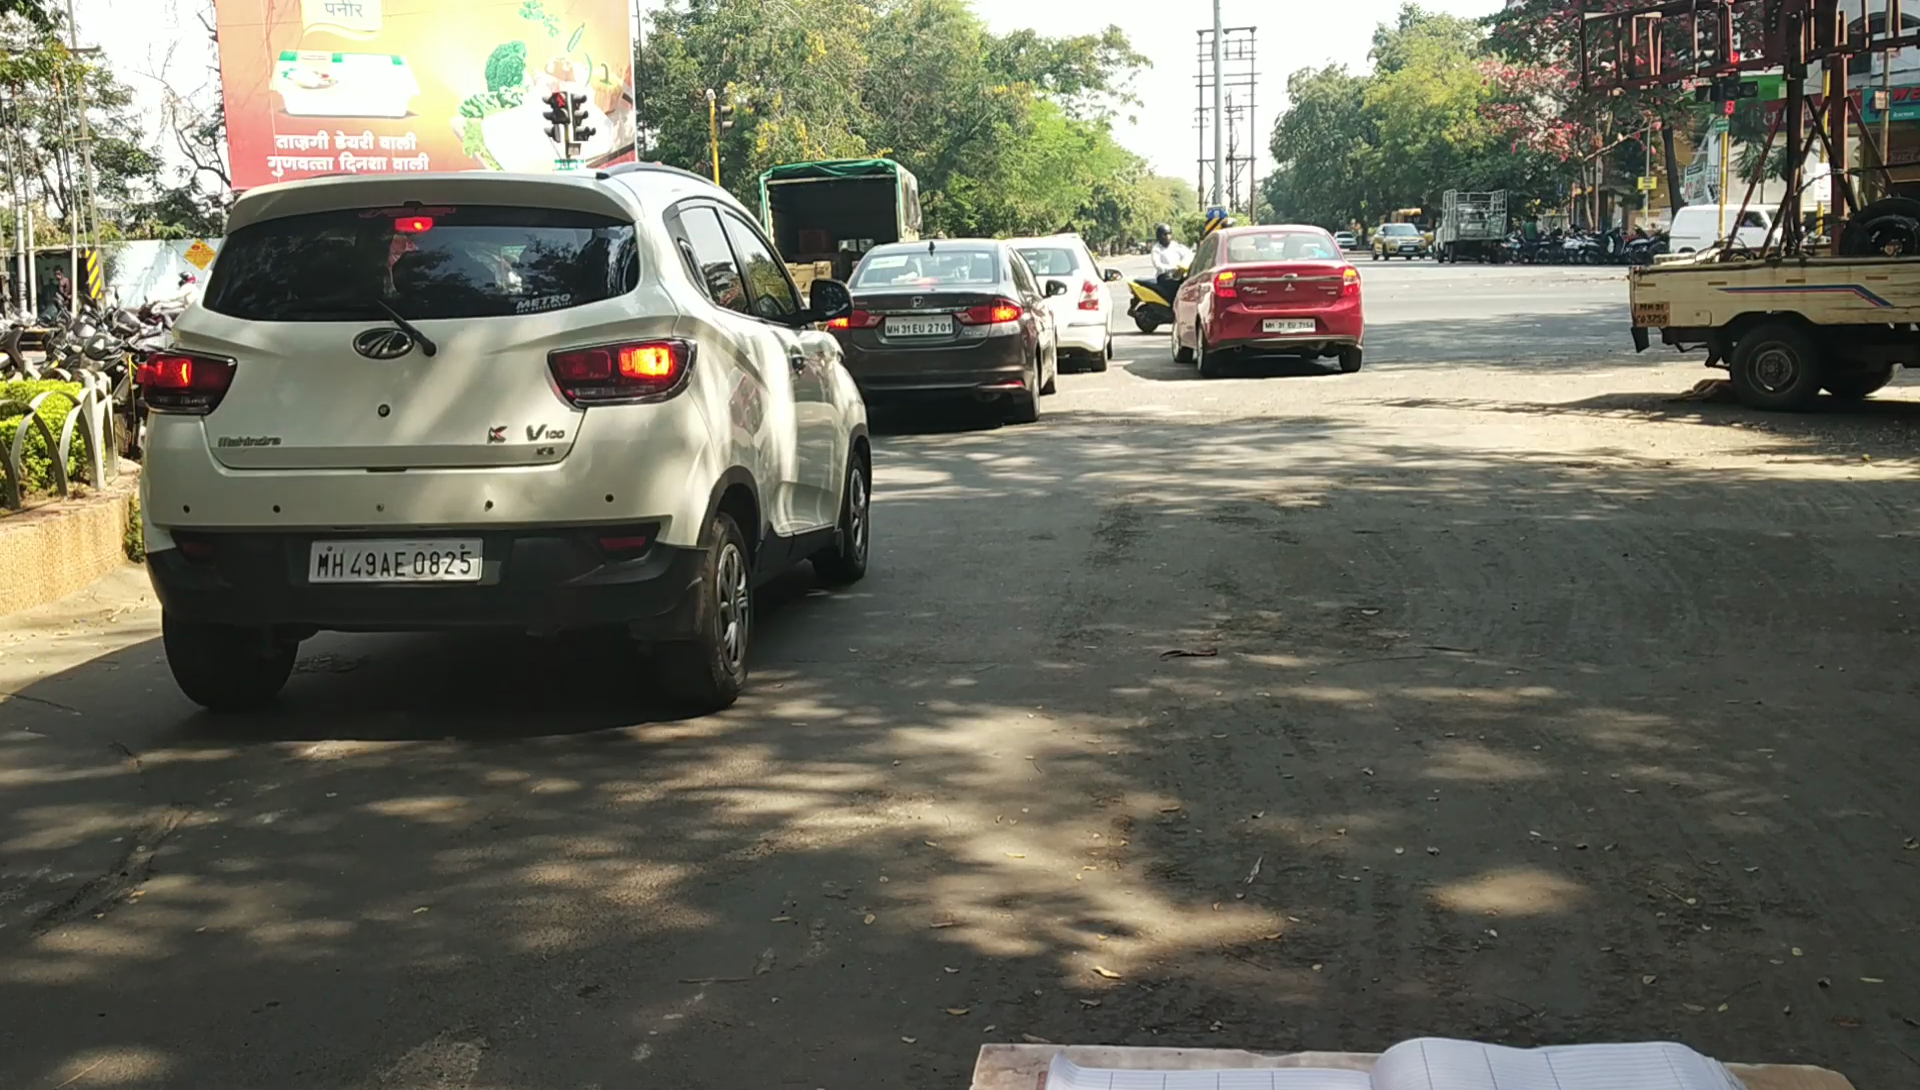car: (131, 165, 880, 709)
numplate: (298, 535, 496, 607)
